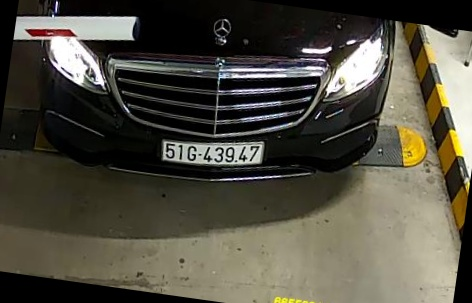plate: (148, 134, 283, 179)
